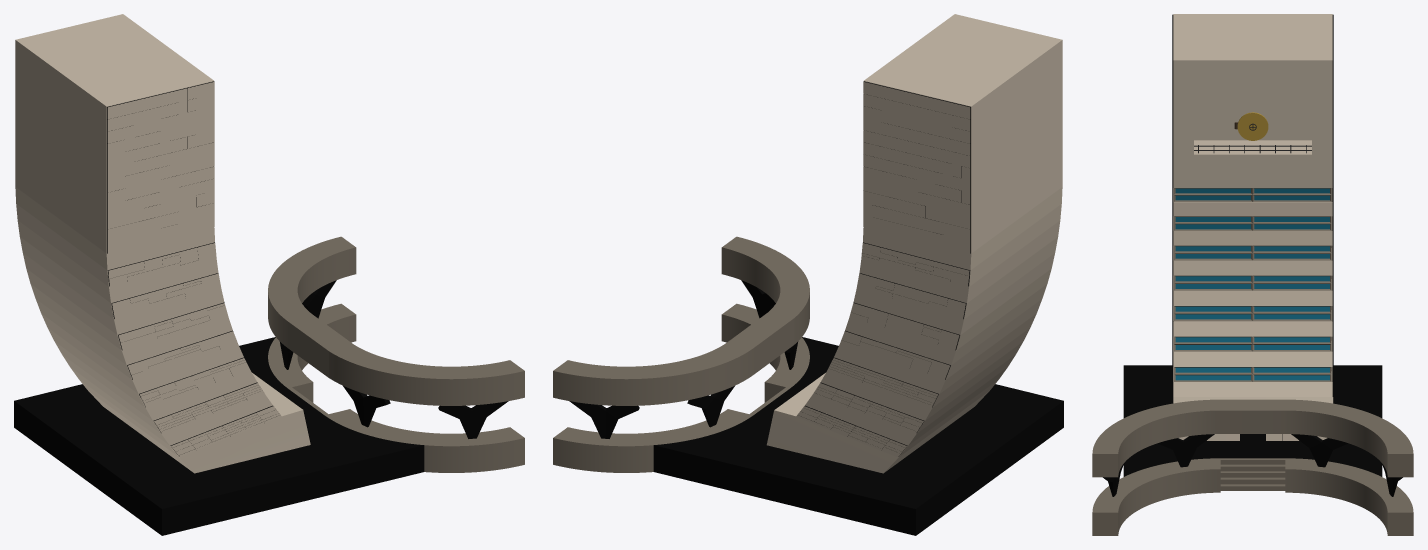
File: Building_09.fbx
The picture shows the model from 3 angles, left to right: view 1: azimuth 30°, elevation 25°; view 2: azimuth 150°, elevation 25°; view 3: azimuth 270°, elevation 25°; orthographic projection. The views are drawn at different scales.
Visible parts, largest first — view 1: Building_09_Base, Building_09_Foundation, Building_09_Windows; view 2: Building_09_Base, Building_09_Foundation, Building_09_Windows; view 3: Building_09_Base, Building_09_Foundation, Building_09_Windows, Building_09_Stairs, Building_09_UpperDetails.
Part boxes in pixels (x1=…): Building_09_Base: x1=15, y1=14, x2=310, y2=473; Building_09_Foundation: x1=14, y1=236, x2=524, y2=535; Building_09_Windows: x1=107, y1=81, x2=310, y2=457; Building_09_Base: x1=766, y1=14, x2=1062, y2=473; Building_09_Foundation: x1=553, y1=236, x2=1063, y2=535; Building_09_Windows: x1=796, y1=81, x2=970, y2=457; Building_09_Base: x1=1173, y1=14, x2=1333, y2=403; Building_09_Foundation: x1=1092, y1=365, x2=1413, y2=535; Building_09_Windows: x1=1172, y1=14, x2=1333, y2=440; Building_09_Stairs: x1=1220, y1=458, x2=1285, y2=490; Building_09_UpperDetails: x1=1194, y1=112, x2=1311, y2=153.
Size of the model in its own units: 2903 by 3095 by 2480.
